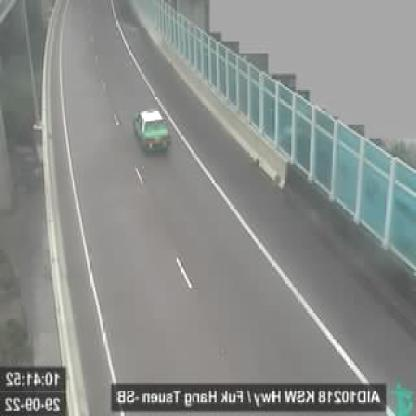Car: (133, 107, 173, 154)
